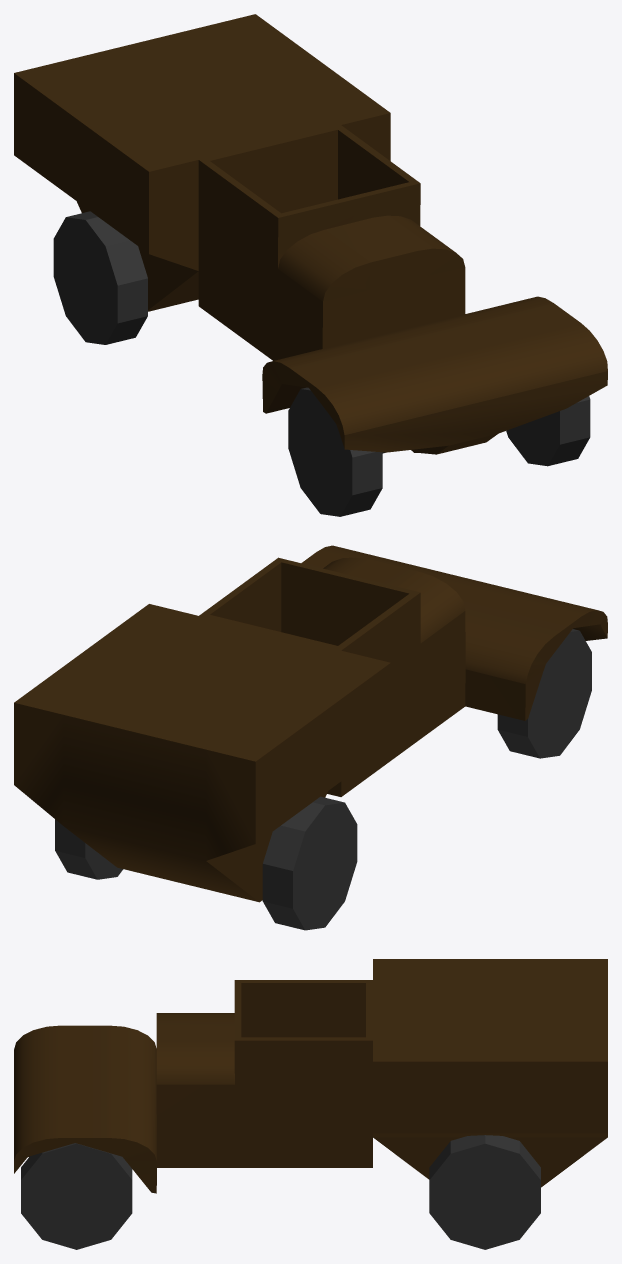
File: Car.fbx
The picture shows the model from 3 angles, top to bottom: view 1: azimuth 30°, elevation 25°; view 2: azimuth 150°, elevation 25°; view 3: azimuth 270°, elevation 25°; orthographic projection. The views are drawn at different scales.
Visible parts, largest first — view 1: Body, FrontAxle, BackAxle; view 2: Body, BackAxle, FrontAxle; view 3: Body, BackAxle, FrontAxle.
Boxes of the visible parts, x1,y1,x2,y2 form: Body: (14,14,607,454); FrontAxle: (288,387,590,516); BackAxle: (53,211,147,344); Body: (14,545,607,902); BackAxle: (55,796,357,930); FrontAxle: (497,629,591,758); Body: (14,959,607,1193); BackAxle: (429,1135,540,1249); FrontAxle: (21,1143,132,1249).
Size of the model in its own units: 2.27 by 1.79 by 5.07.
